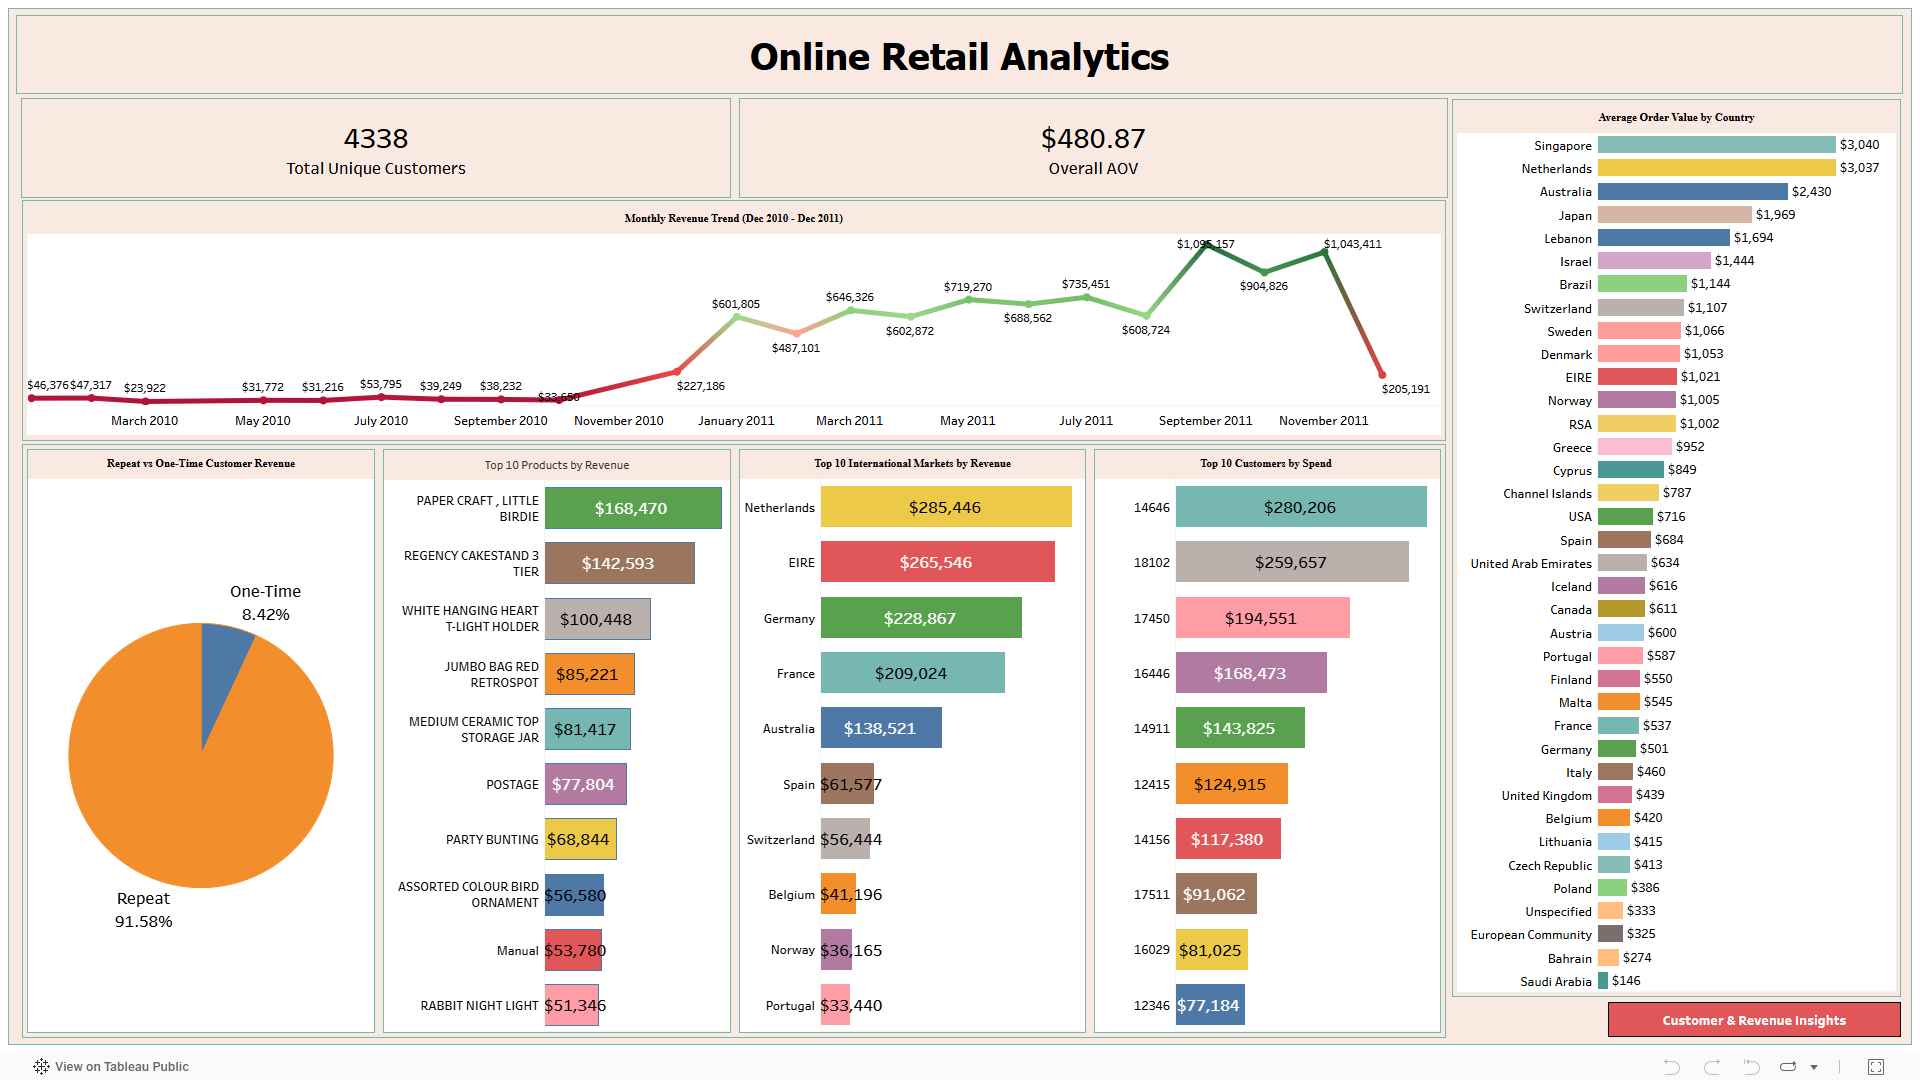

What the dashboard file says about the page in this screenshot:
{"tool":"tableau","page":{"name":"Dashboard 1","canvas":[1000,1000],"units":"permille","ordinal":0},"visuals":[{"type":"text","box":[9,15.1,981.5,73.3]},{"type":"text","box":[9.1,89.3,373.6,102.2]},{"type":"text","box":[382.6,89.3,373.6,102.2]},{"type":"worksheet","title":"AOV by Country","mark":"Automatic","rows":["Country"],"cols":["Calculation_1539326169436160"],"box":[756.7,95,233.1,850.9]},{"type":"worksheet","title":"Monthly Revenue","mark":"Automatic","rows":["Revenue"],"cols":["InvoiceDate"],"box":[12,191.3,740.7,226.1]},{"type":"worksheet","title":"Repeat vs One-Time","mark":"Pie","box":[12,422.9,185.4,561.9]},{"type":"worksheet","title":"Top 10 by revenue","mark":"Automatic","rows":["Description"],"cols":["Revenue"],"box":[197.4,422.9,185.4,561.9]},{"type":"worksheet","title":"Top 10 Intl. Markets","mark":"Automatic","rows":["Country"],"cols":["Revenue"],"box":[382.8,422.9,184.9,561.9]},{"type":"worksheet","title":"Top 10 Customers","mark":"Automatic","rows":["CustomerID"],"cols":["Revenue"],"box":[567.7,422.9,184.9,561.9]},{"type":"dashboard-object","box":[837.7,951.8,152.7,32.9]}]}

Visuals, with their boxes on the dashboard's canvas, which has no fixed pixel size, in thousandths of its width and height (x1, y1, x2, y2). These are canvas units, not pixel positions in the 1920x1080 screenshot, which may show the page scaled, cropped or inside an application window:
text: region(9, 15, 990, 88)
text: region(9, 89, 383, 192)
text: region(383, 89, 756, 192)
"AOV by Country" worksheet: region(757, 95, 990, 946)
"Monthly Revenue" worksheet: region(12, 191, 753, 417)
"Repeat vs One-Time" worksheet (Pie marks): region(12, 423, 197, 985)
"Top 10 by revenue" worksheet: region(197, 423, 383, 985)
"Top 10 Intl. Markets" worksheet: region(383, 423, 568, 985)
"Top 10 Customers" worksheet: region(568, 423, 753, 985)
dashboard-object: region(838, 952, 990, 985)
